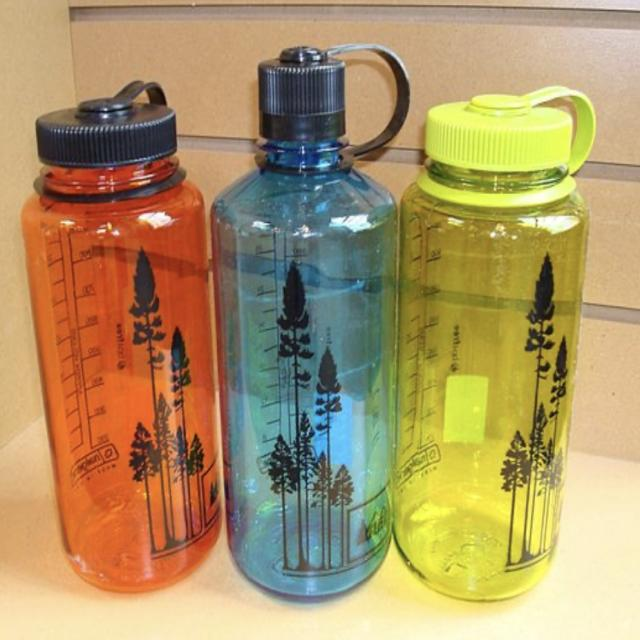recyclable: (179, 22, 439, 623), (13, 59, 233, 597), (382, 63, 593, 616)
